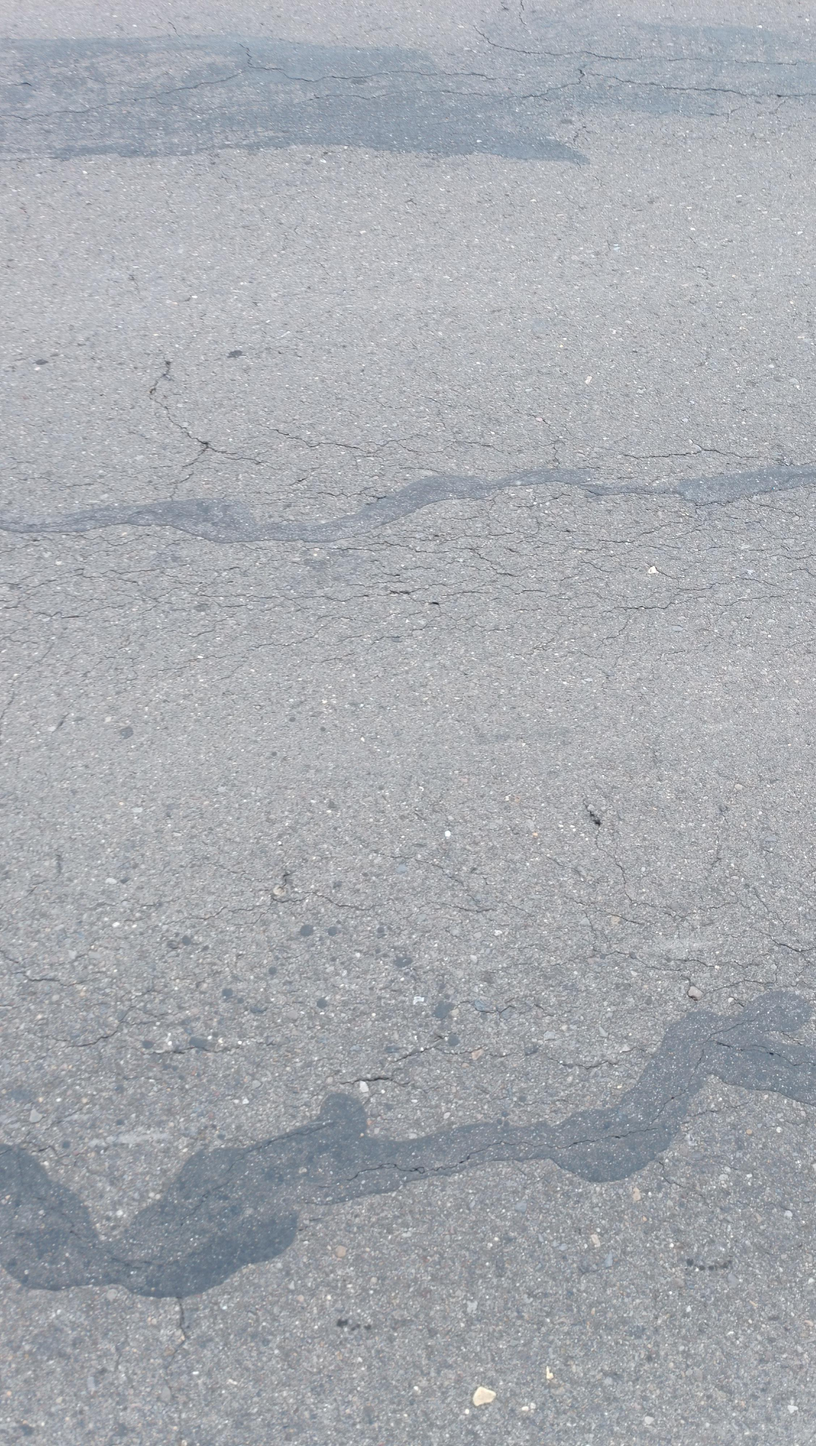GRIETA: (349, 1127, 660, 1181), (150, 398, 187, 430), (150, 361, 171, 396)
PARCHE: (101, 1096, 367, 1296)
PIEL DE COCODRILO: (0, 426, 816, 689), (0, 839, 816, 1091), (0, 26, 816, 137)
